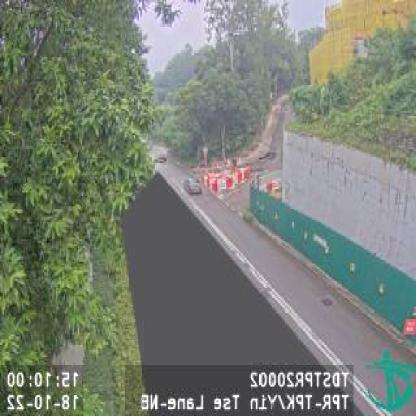Car: (182, 171, 202, 195)
